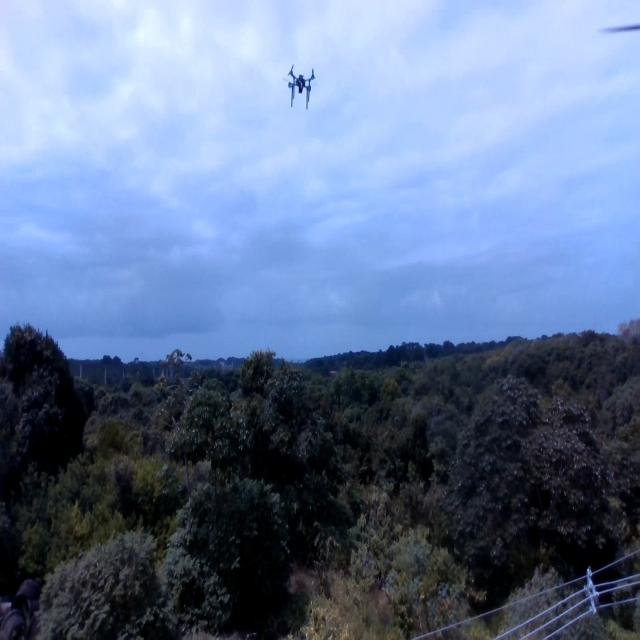-uav-: (276, 55, 328, 117)
